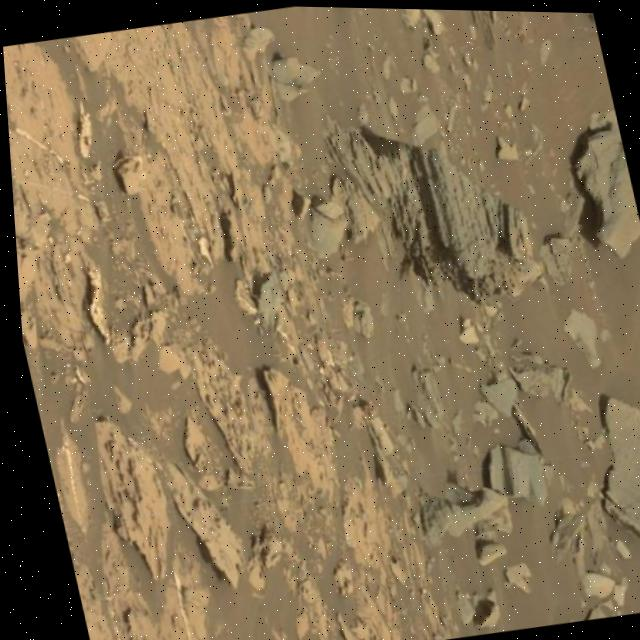mars-rocks: (572, 120, 639, 255), (597, 395, 640, 540), (414, 484, 500, 545), (478, 444, 540, 504)
